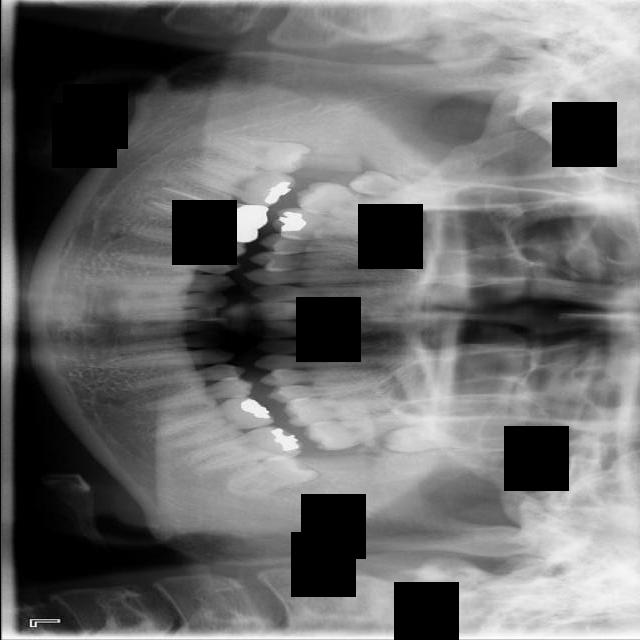3M ESPE Implant: (345, 166, 452, 211)
52: (233, 156, 299, 220), (215, 383, 277, 444), (243, 420, 304, 466), (211, 201, 269, 245), (270, 205, 330, 242)
73: (141, 178, 237, 234), (54, 584, 58, 600)
BioHorizons Implant: (301, 415, 422, 453)
BioLife Implant: (380, 424, 481, 456)
Biomet 3i Implant: (217, 445, 320, 506)
Blue Sky Bio Implant: (180, 421, 304, 475)
Caries: (292, 178, 419, 226)
Implant: (177, 156, 297, 213)
Keystone Dental Implant: (207, 133, 311, 177)
